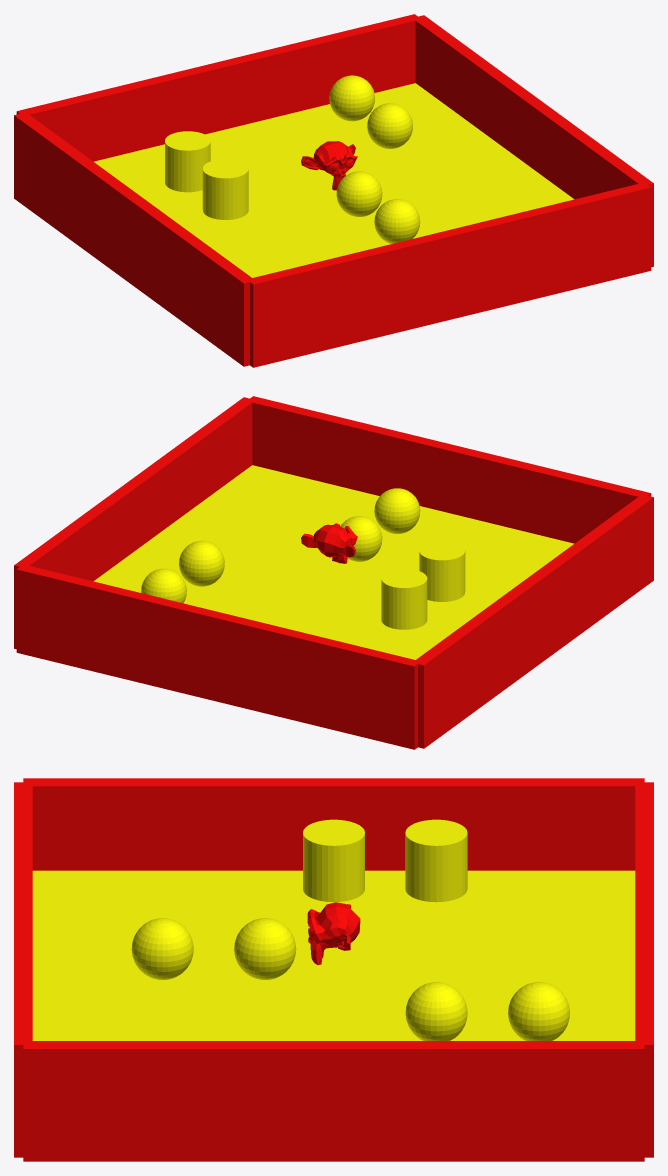
The model's file is levelone.glb.
3 views of the same model, one above another, from view 1: azimuth 30°, elevation 25°; view 2: azimuth 150°, elevation 25°; view 3: azimuth 270°, elevation 25° (orthographic). The views are drawn at different scales.
Parts seen in each view (by area): view 1: Plane, WallSouth, WallTop, WallWest, WallEast, Cylinder, Cylinder.001, Sphere.002, Sphere.003, Sphere, Sphere.001, a_suzanne; view 2: Plane, WallTop, WallSouth, WallWest, WallEast, Cylinder.001, Cylinder, Sphere.001, Sphere, a_suzanne, Sphere.003, Sphere.002; view 3: Plane, WallEast, WallWest, WallSouth, WallTop, Cylinder.001, Cylinder, Sphere.001, Sphere.003, Sphere, Sphere.002, a_suzanne.
Boxes of the visible parts, box(x1,y1,x2,y2) form: Plane: box(94, 83, 574, 277); WallSouth: box(247, 182, 651, 367); WallTop: box(16, 14, 420, 161); WallWest: box(14, 112, 255, 366); WallEast: box(415, 15, 653, 267); Cylinder: box(202, 159, 248, 219); Cylinder.001: box(165, 131, 210, 192); Sphere.002: box(329, 75, 374, 121); Sphere.003: box(336, 171, 382, 216); Sphere: box(367, 103, 412, 148); Sphere.001: box(374, 199, 420, 243); a_suzanne: box(301, 141, 357, 190); Plane: box(93, 465, 573, 659); WallTop: box(16, 564, 420, 749); WallSouth: box(247, 396, 651, 543); WallWest: box(412, 495, 653, 748); WallEast: box(14, 397, 252, 649); Cylinder.001: box(381, 568, 427, 629); Cylinder: box(419, 541, 465, 601); Sphere.001: box(374, 488, 420, 533); Sphere: box(179, 540, 224, 586); a_suzanne: box(301, 523, 357, 563); Sphere.003: box(340, 516, 382, 561); Sphere.002: box(141, 568, 186, 603); Plane: box(32, 870, 635, 1040); WallEast: box(23, 1041, 644, 1161); WallWest: box(23, 778, 644, 870); WallSouth: box(14, 782, 32, 1157); WallTop: box(635, 782, 653, 1157); Cylinder.001: box(405, 819, 467, 902); Cylinder: box(303, 819, 364, 902); Sphere.001: box(131, 918, 193, 979); Sphere.003: box(234, 918, 296, 979); Sphere: box(405, 982, 467, 1040); Sphere.002: box(508, 982, 569, 1040); a_suzanne: box(307, 902, 360, 964).
Size of the model in its own units: 20.6 by 4.34 by 20.6.
